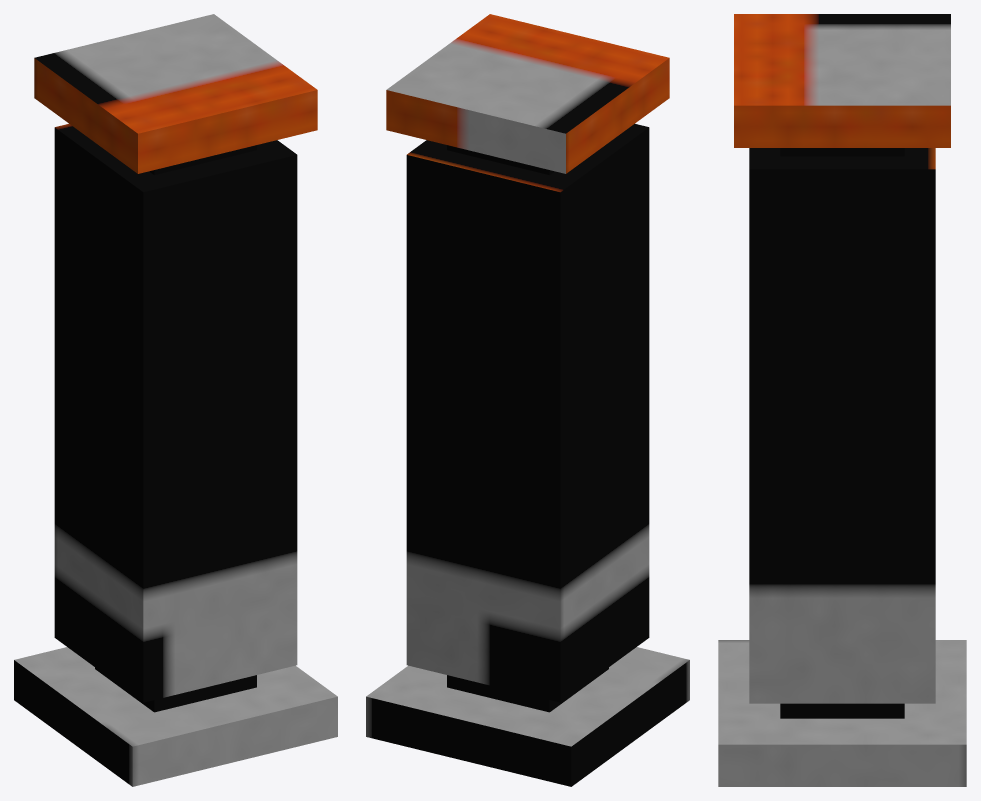
File: tesla_tower.obj
3 views of the same model, side by side, from view 1: azimuth 30°, elevation 25°; view 2: azimuth 150°, elevation 25°; view 3: azimuth 270°, elevation 25° (orthographic). The views are drawn at different scales.
Visible parts, largest first — view 1: Object_4_1_0, Object_4_2_0, Object_3_3_0, Object_4_0_0; view 2: Object_4_1_0, Object_4_2_0, Object_3_3_0, Object_4_0_0; view 3: Object_4_1_0, Object_4_2_0, Object_3_3_0, Object_4_0_0.
Part boxes in pixels (left/top/right/bottom): Object_4_1_0: left=54, top=124, right=297, bottom=702; Object_4_2_0: left=34, top=14, right=317, bottom=173; Object_3_3_0: left=14, top=647, right=337, bottom=786; Object_4_0_0: left=95, top=145, right=256, bottom=712; Object_4_1_0: left=406, top=124, right=649, bottom=702; Object_4_2_0: left=386, top=14, right=669, bottom=173; Object_3_3_0: left=366, top=647, right=689, bottom=786; Object_4_0_0: left=447, top=145, right=608, bottom=712; Object_4_1_0: left=749, top=148, right=935, bottom=703; Object_4_2_0: left=734, top=14, right=950, bottom=147; Object_3_3_0: left=718, top=640, right=966, bottom=786; Object_4_0_0: left=780, top=148, right=904, bottom=718.
Bounding box in the file's own units: 1 × 3 × 1.
